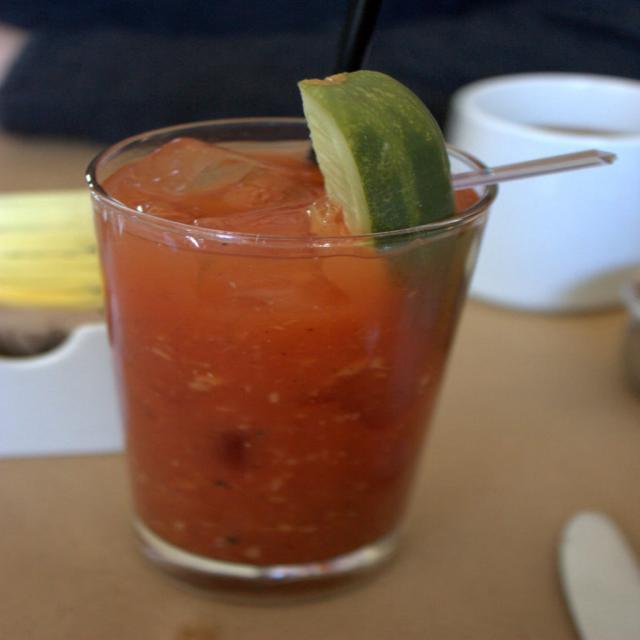Zucchini: (269, 70, 473, 229)
